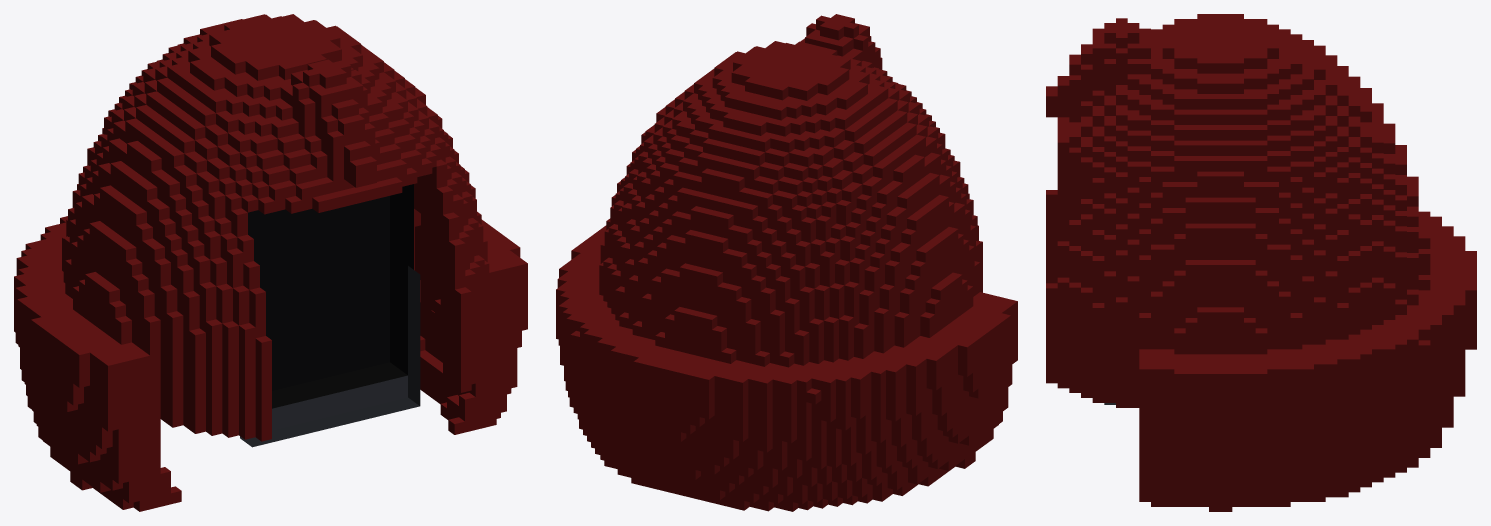
Rendered from lined_coif.glb.
3 views of the same model, side by side, from view 1: azimuth 30°, elevation 25°; view 2: azimuth 150°, elevation 25°; view 3: azimuth 270°, elevation 25° (orthographic). The views are drawn at different scales.
Parts seen in each view (by area): view 1: lined_coif; view 2: lined_coif; view 3: lined_coif.
Boxes of the visible parts, bbox=[...] form: lined_coif: bbox=[14, 14, 527, 511]; lined_coif: bbox=[556, 14, 1017, 511]; lined_coif: bbox=[1046, 14, 1476, 511].
Size of the model in its own units: 0.504 by 0.444 by 0.444.
